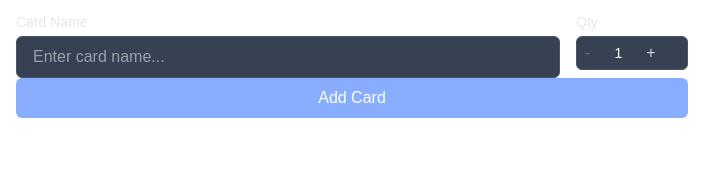
CardInput › shows loading state when searching for cards
This screenshot has width=705, height=172.
In the field labelled "Card Name": (288, 57) x1=16 y1=36 x2=560 y2=78, type "Lightning"
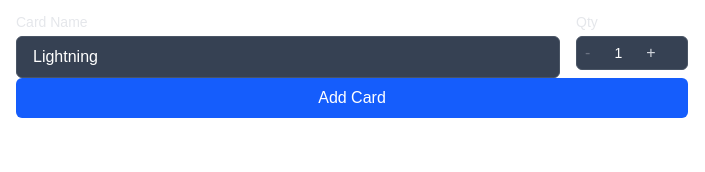
Focus the field labelled "Card Name": (288, 57) x1=16 y1=36 x2=560 y2=78
Wait 300 ms
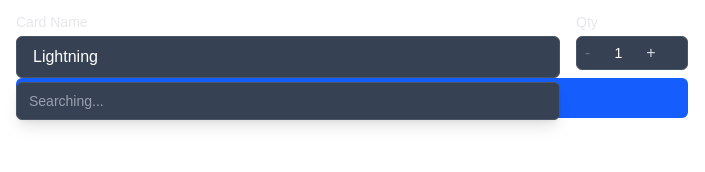
Now the text "Searching..." is shown, box x1=29 y1=93 x2=104 y2=109
